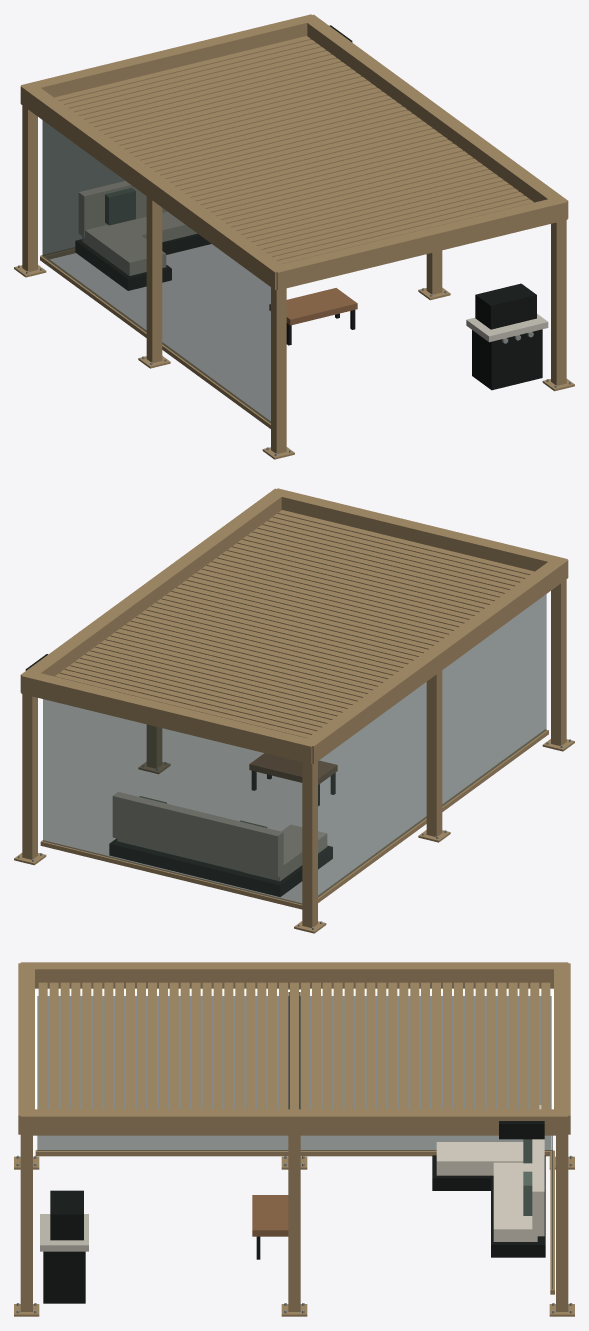
Rendered from coordinatez-axis-13x20-sand.glb.
3 renders of one model, top to bottom at view 1: azimuth 30°, elevation 25°; view 2: azimuth 150°, elevation 25°; view 3: azimuth 270°, elevation 25°, orthographic. The views are drawn at different scales.
Visible parts, largest first — view 1: Left motorized wall, Structural post (×5), Left beam, Front motor beam, Right beam, Rear drainage beam, Rear motorized wall, BBQ cabinet, Chaise cushion, BBQ hood, Left wall bottom rail, Coffee table top (+51 smaller); view 2: Rear motorized wall, Left motorized wall, Structural post (×5), Sofa back, Left beam, Rear drainage beam, Right beam, Front motor beam, Sofa base, Left wall bottom rail, Rear wall bottom rail, Louver 06 (+47 smaller); view 3: Left motorized wall, Right beam, Left beam, Structural post (×4), Sofa seat, Left wall bottom rail, Rear drainage beam, Front motor beam, Chaise cushion, BBQ cabinet, BBQ hood, Coffee table top (+53 smaller).
Part boxes in pixels (x1,y1,x2,y2): Left motorized wall: (42, 120, 270, 423); Structural post (×5): (22, 105, 566, 453); Left beam: (20, 84, 284, 289); Front motor beam: (270, 196, 567, 290); Right beam: (302, 14, 568, 218); Rear drainage beam: (21, 14, 318, 97); Rear motorized wall: (43, 121, 124, 255); BBQ cabinet: (472, 329, 542, 390); Chaise cushion: (82, 222, 165, 275); BBQ hood: (475, 283, 536, 329); Left wall bottom rail: (40, 255, 270, 428); Coffee table top: (269, 288, 357, 325); Rear motorized wall: (43, 699, 302, 904); Left motorized wall: (318, 594, 546, 897); Structural post (×5): (22, 579, 566, 927); Sofa back: (113, 792, 283, 877); Left beam: (304, 558, 568, 763); Rear drainage beam: (21, 670, 318, 764); Right beam: (20, 488, 284, 692); Front motor beam: (271, 488, 567, 571); Sofa base: (109, 838, 300, 896); Left wall bottom rail: (318, 729, 548, 902); Rear wall bottom rail: (40, 840, 302, 909); Louver 06: (70, 662, 326, 727); Left motorized wall: (37, 996, 551, 1150); Right beam: (20, 1109, 568, 1135); Left beam: (20, 962, 568, 988); Structural post (×4): (20, 988, 568, 1311); Sofa seat: (493, 1162, 537, 1241); Left wall bottom rail: (35, 1150, 553, 1156); Rear drainage beam: (554, 963, 570, 1134); Front motor beam: (18, 963, 34, 1134); Chaise cushion: (436, 1142, 523, 1175); BBQ cabinet: (43, 1251, 85, 1303); BBQ hood: (50, 1190, 83, 1240); Coffee table top: (252, 1195, 288, 1236).
Bounding box in the file's own units: 4.29 × 2.49 × 6.39.
